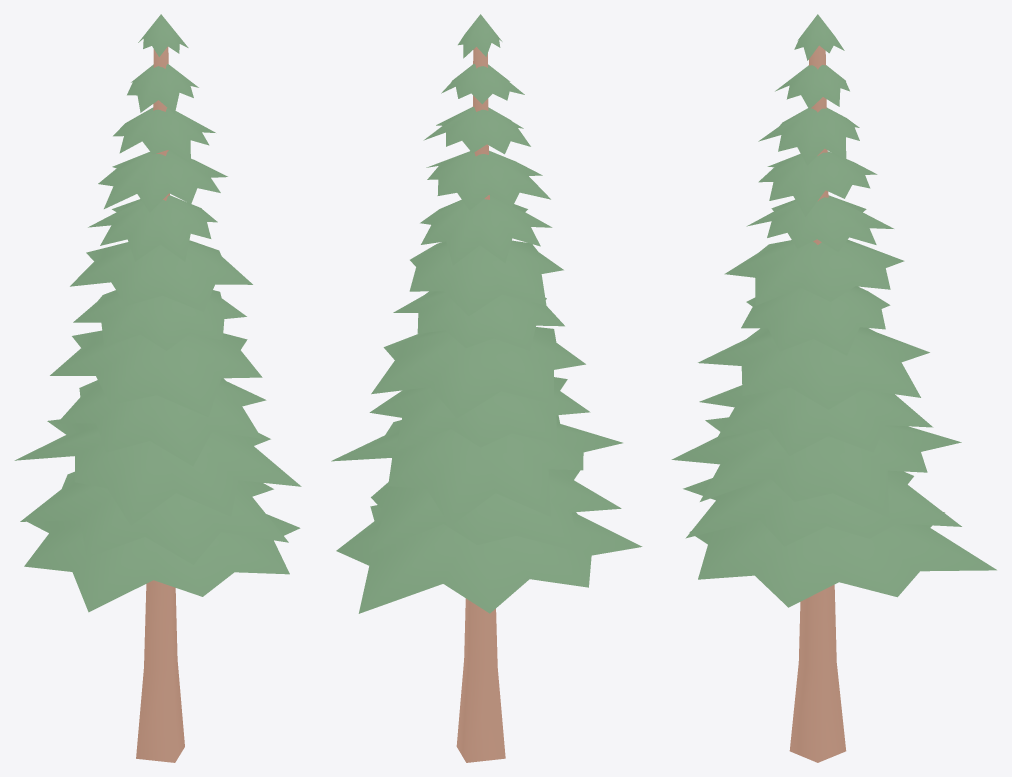
Rendered from Blender_Fir_1_Far.glb.
3 views of the same model, side by side, from view 1: azimuth 30°, elevation 25°; view 2: azimuth 150°, elevation 25°; view 3: azimuth 270°, elevation 25° (orthographic).
Visible parts, largest first — view 1: Blender_Fir_1_Far; view 2: Blender_Fir_1_Far; view 3: Blender_Fir_1_Far.
Boxes of the visible parts, box(x1,y1,x2,y2) form: Blender_Fir_1_Far: box(14, 14, 301, 762); Blender_Fir_1_Far: box(331, 14, 642, 762); Blender_Fir_1_Far: box(671, 14, 996, 762).
Bounding box in the file's own units: 20.7 × 58.99 × 23.68.
